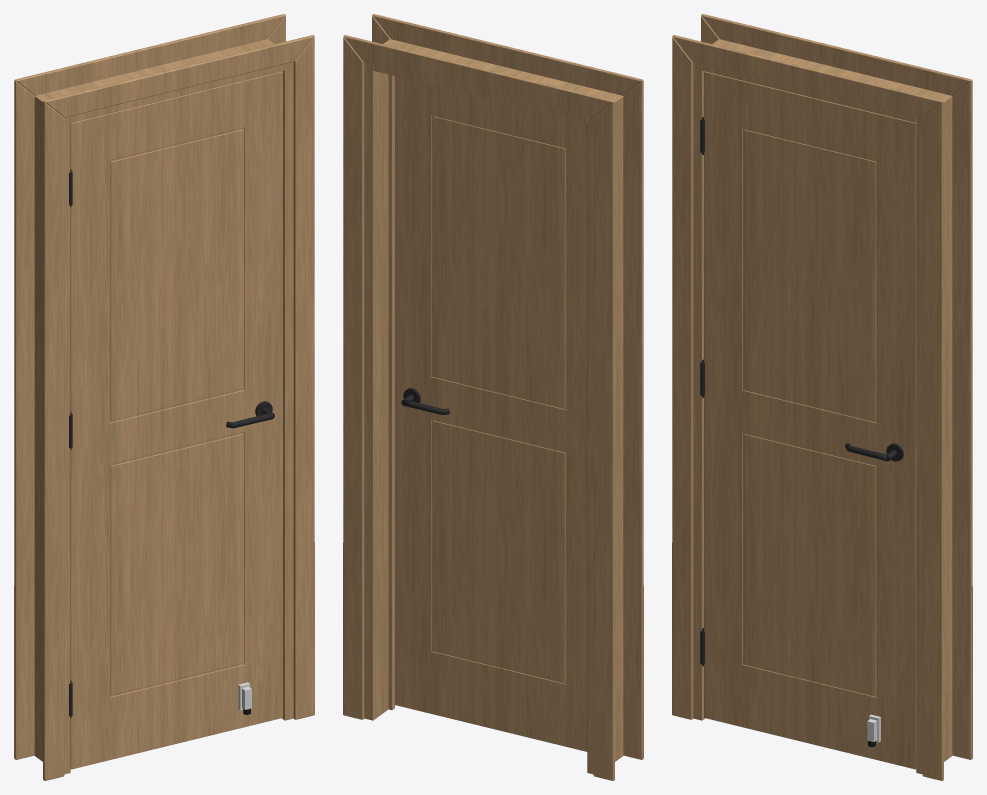
Rendered from mk_door_bed_ne_l.glb.
The picture shows the model from 3 angles, left to right: view 1: azimuth 30°, elevation 25°; view 2: azimuth 150°, elevation 25°; view 3: azimuth 330°, elevation 25°; orthographic projection.
Parts seen in each view (by area): view 1: mk_door_bed_ne_l_leaf_body, mk_door_bed_ne_l_casing, mk_door_bed_ne_l_frame, mk_door_bed_ne_l_handle; view 2: mk_door_bed_ne_l_leaf_body, mk_door_bed_ne_l_casing, mk_door_bed_ne_l_frame, mk_door_bed_ne_l_handle; view 3: mk_door_bed_ne_l_leaf_body, mk_door_bed_ne_l_casing, mk_door_bed_ne_l_frame, mk_door_bed_ne_l_handle, mk_door_bed_ne_l_hinges.
Part boxes in pixels (x1,y1,x2,y2): mk_door_bed_ne_l_leaf_body: (70, 71, 282, 769); mk_door_bed_ne_l_casing: (14, 14, 314, 780); mk_door_bed_ne_l_frame: (34, 39, 293, 774); mk_door_bed_ne_l_handle: (226, 401, 274, 714); mk_door_bed_ne_l_leaf_body: (395, 76, 587, 751); mk_door_bed_ne_l_casing: (343, 14, 643, 780); mk_door_bed_ne_l_frame: (364, 39, 623, 774); mk_door_bed_ne_l_handle: (401, 388, 449, 414); mk_door_bed_ne_l_leaf_body: (704, 71, 916, 769); mk_door_bed_ne_l_casing: (672, 14, 972, 780); mk_door_bed_ne_l_frame: (693, 39, 952, 774); mk_door_bed_ne_l_handle: (845, 443, 903, 746); mk_door_bed_ne_l_hinges: (700, 116, 704, 666).
Bounding box in the file's own units: 0.8794 × 2.11 × 0.2148.
Materials: 4 (1 with a texture image).
